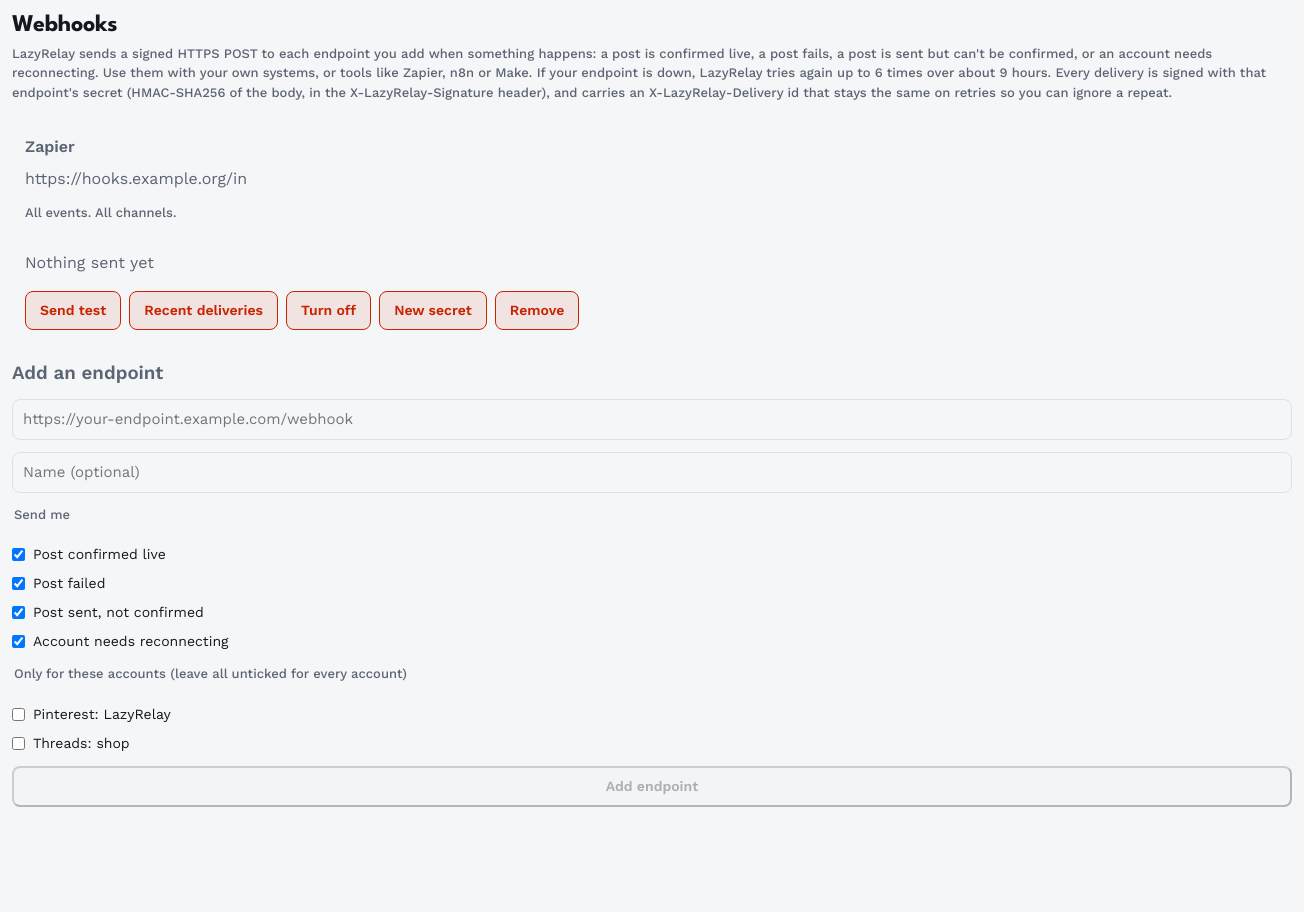
Test: WebhooksSection › recent deliveries opens a log in plain words
This screenshot has width=1304, height=912.
Click the button "Recent deliveries" at (204, 310), box [129,291,278,330]
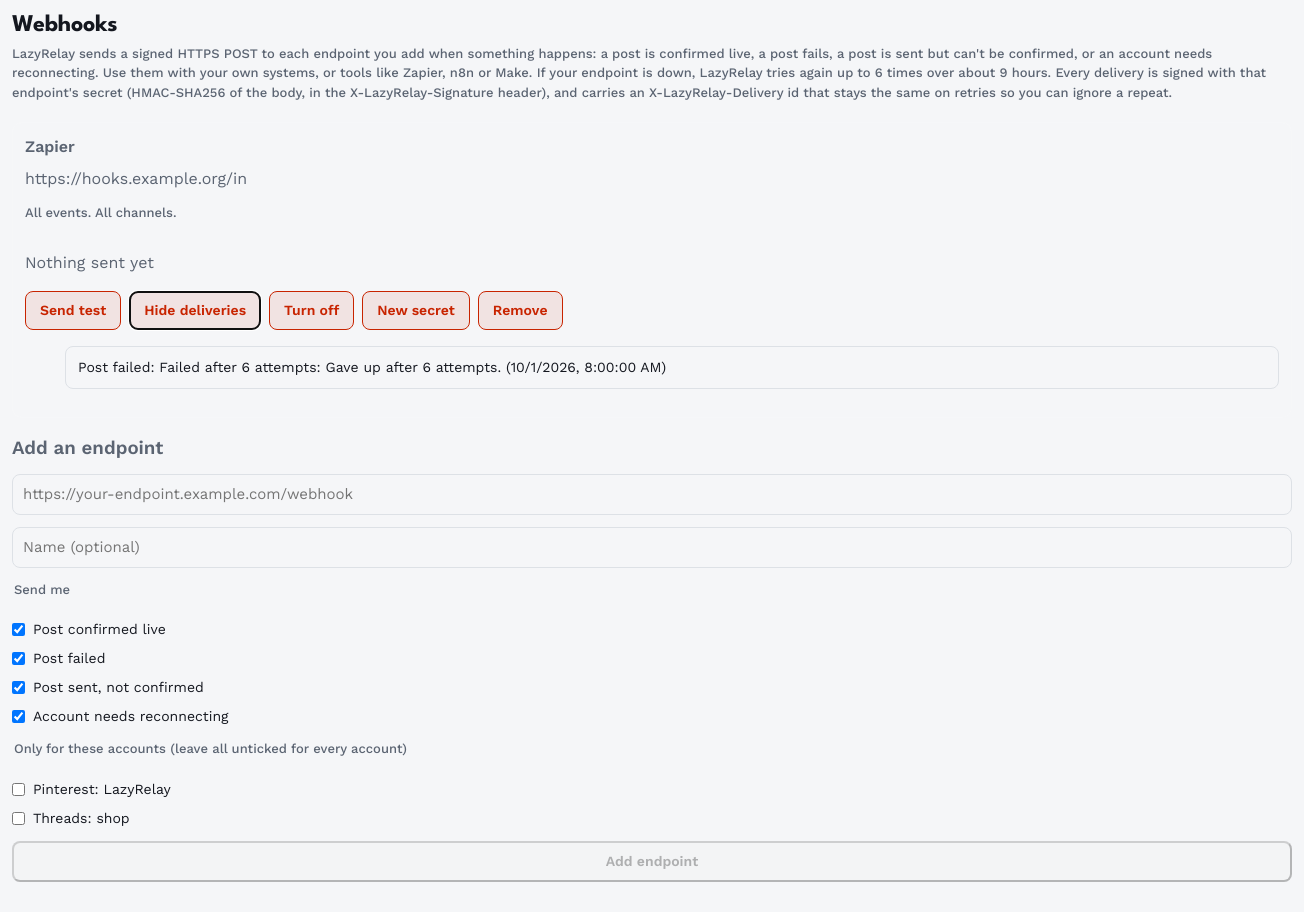
expect the list item "Post failed: Failed after 6 attempts: Gave up after 6 attempts." is shown: met, box [65,346,1279,389]
